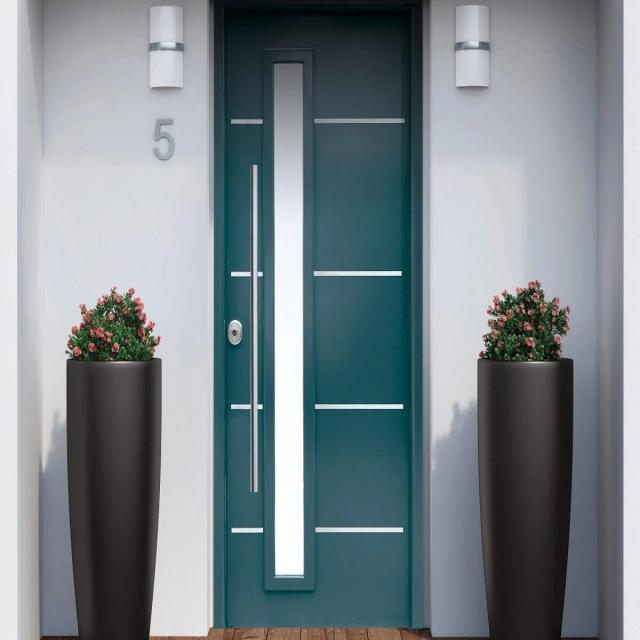door: (217, 2, 424, 629)
